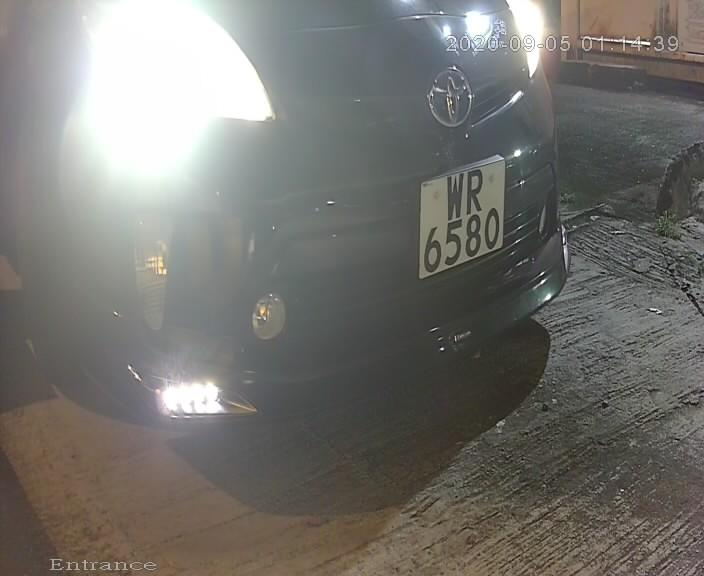Car: (1, 3, 629, 507)
License Plate: (407, 142, 514, 294)
